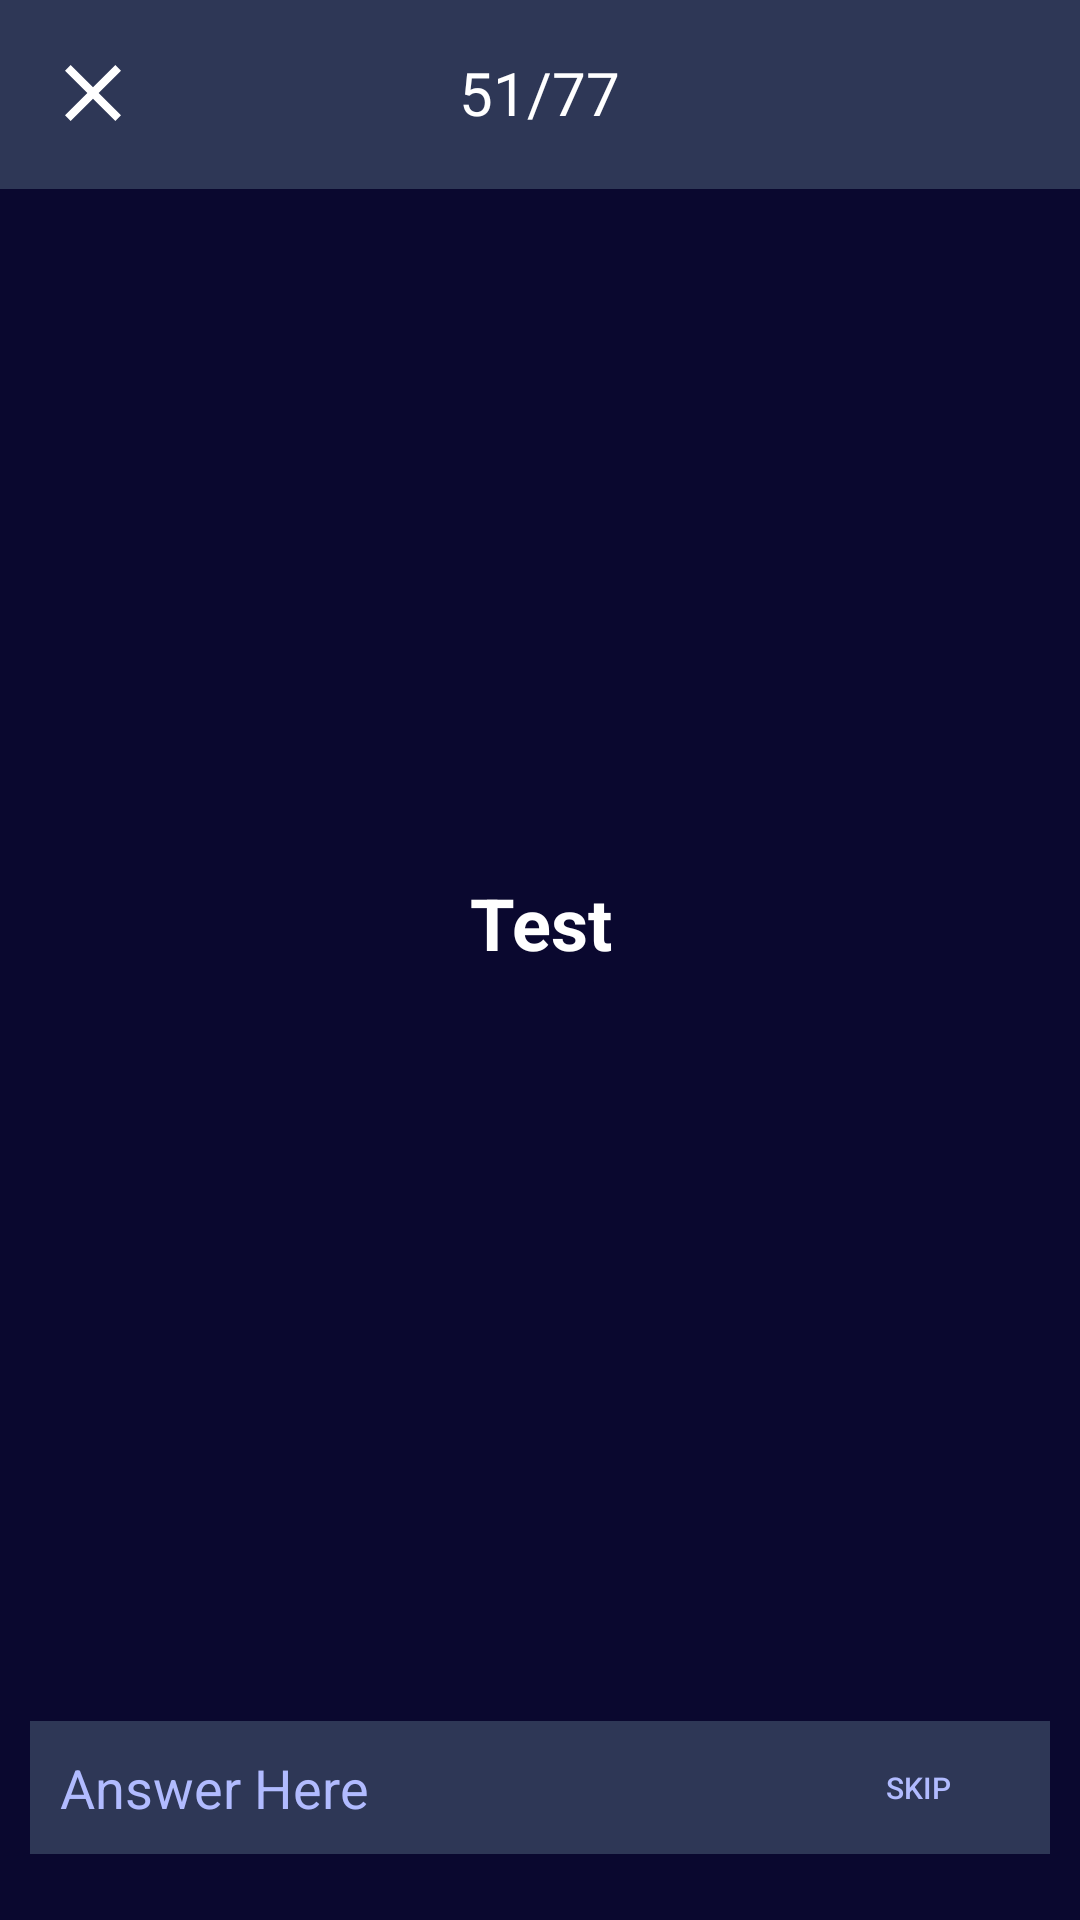

Named icons in this screenshot (1080px x 1920px) and their bounding boxes, (x1, y1, x2, y2):
clear: (65, 65, 121, 121)
